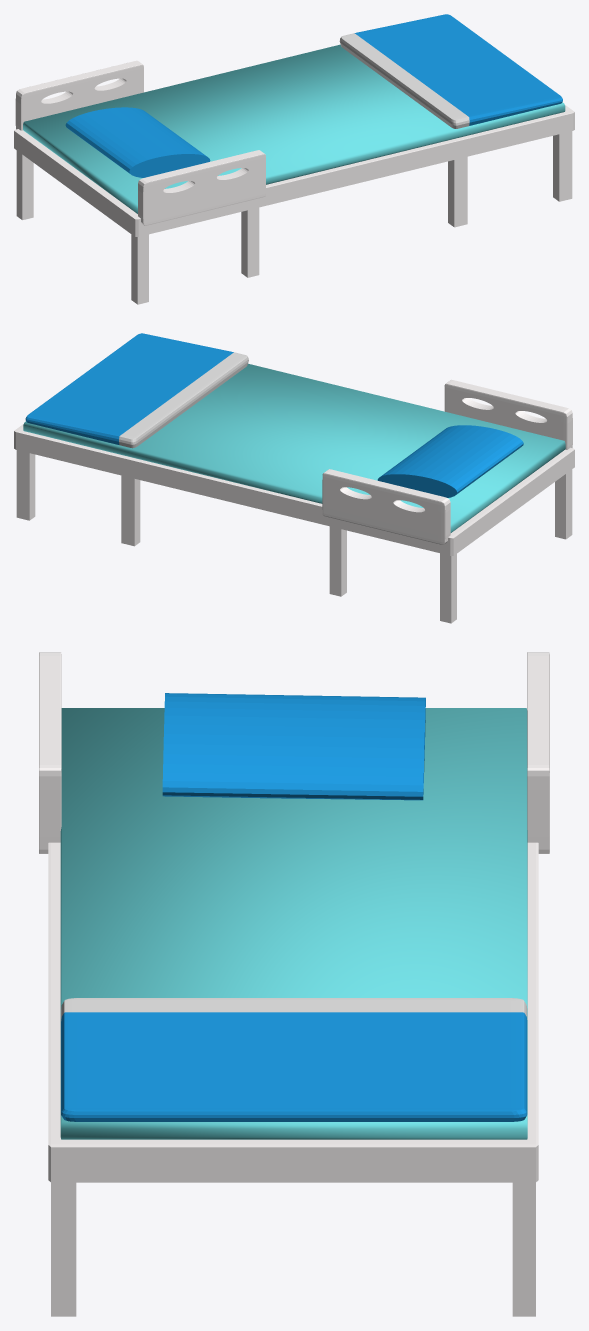
File: yatak.fbx
The picture shows the model from 3 angles, top to bottom: view 1: azimuth 30°, elevation 25°; view 2: azimuth 150°, elevation 25°; view 3: azimuth 270°, elevation 25°; orthographic projection. The views are drawn at different scales.
Parts seen in each view (by area): view 1: yatak; view 2: yatak; view 3: yatak.
Boxes of the visible parts, box(x1,y1,x2,y2) form: yatak: box(14, 14, 574, 304); yatak: box(14, 333, 574, 623); yatak: box(39, 652, 549, 1316).
Size of the model in its own units: 500 by 134 by 252.
